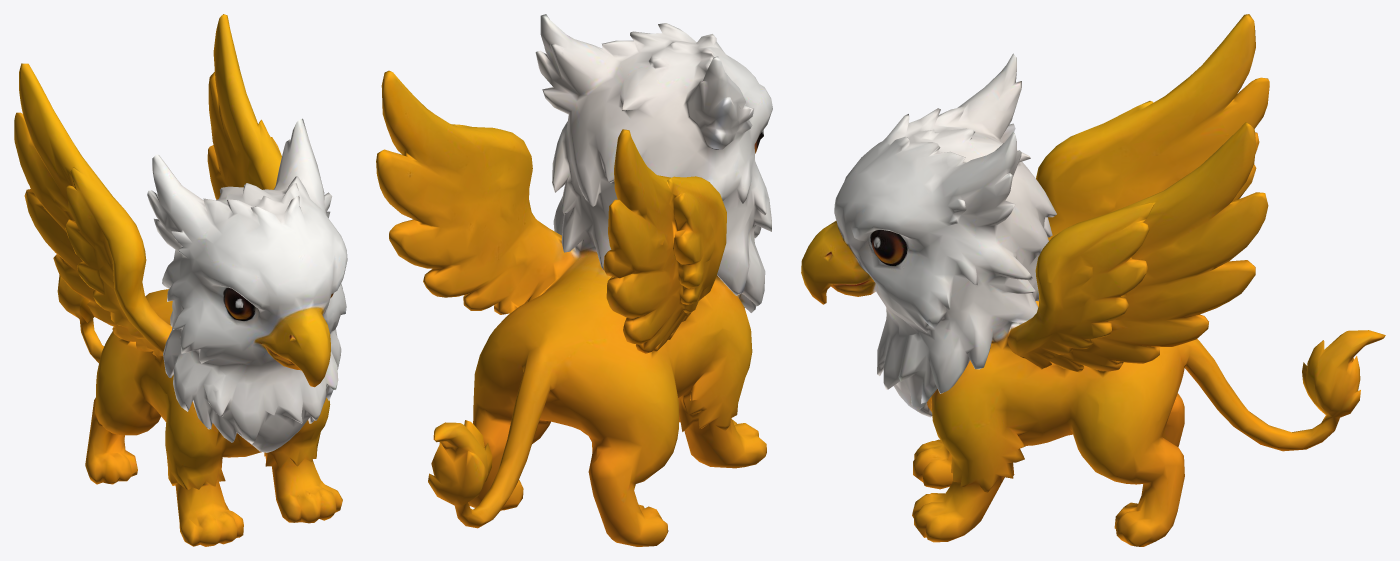
The picture shows the model from 3 angles, left to right: view 1: azimuth 30°, elevation 25°; view 2: azimuth 150°, elevation 25°; view 3: azimuth 270°, elevation 25°; orthographic projection. The views are drawn at different scales.
Visible parts, largest first — view 1: tripo_node_fe9cb063-d196-427d-a2bf-a3d6cc0e6ce5; view 2: tripo_node_fe9cb063-d196-427d-a2bf-a3d6cc0e6ce5; view 3: tripo_node_fe9cb063-d196-427d-a2bf-a3d6cc0e6ce5.
Boxes of the visible parts, x1,y1,x2,y2 form: tripo_node_fe9cb063-d196-427d-a2bf-a3d6cc0e6ce5: (14,14,347,546); tripo_node_fe9cb063-d196-427d-a2bf-a3d6cc0e6ce5: (376,14,772,546); tripo_node_fe9cb063-d196-427d-a2bf-a3d6cc0e6ce5: (801,14,1385,546).
Size of the model in its own units: 0.4662 by 0.8215 by 1.
Materials: 1 (1 with a texture image).
